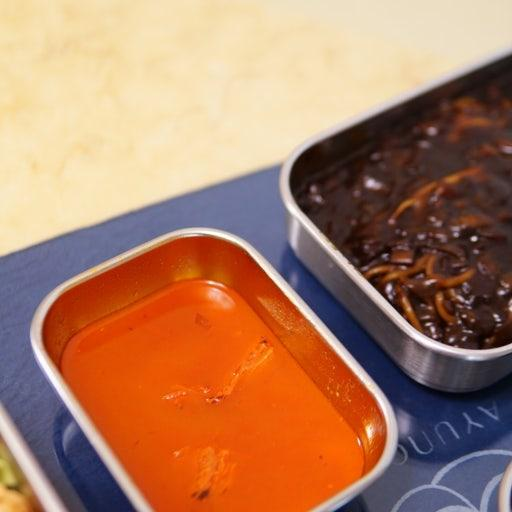Lunch Box: (31, 228, 397, 511), (281, 50, 511, 390)
